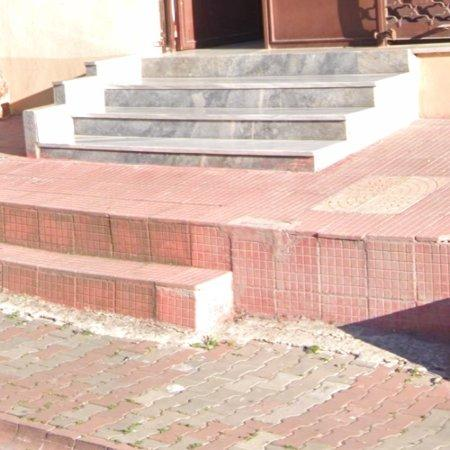stairs: (0, 159, 300, 332), (23, 49, 419, 171), (296, 217, 450, 322)
